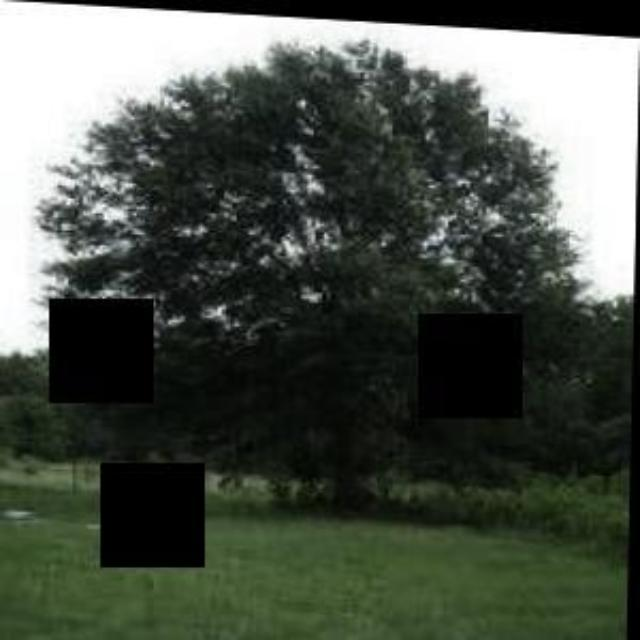tree: (34, 14, 586, 522)
